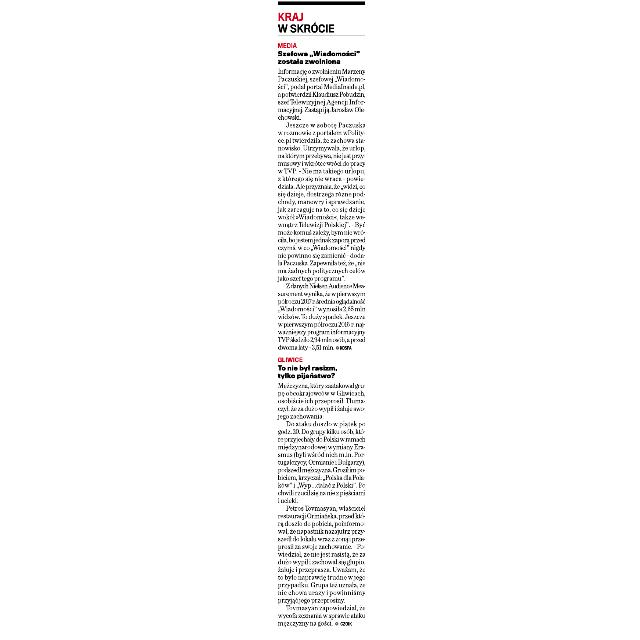body: (276, 67, 366, 351), (275, 383, 365, 629)
lead: (278, 39, 362, 67), (276, 352, 340, 382)
title: (278, 9, 340, 35)
